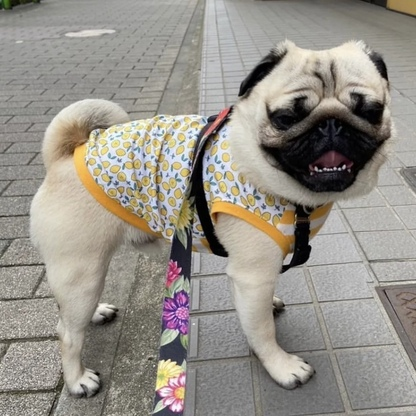Pug: (22, 33, 400, 401)
